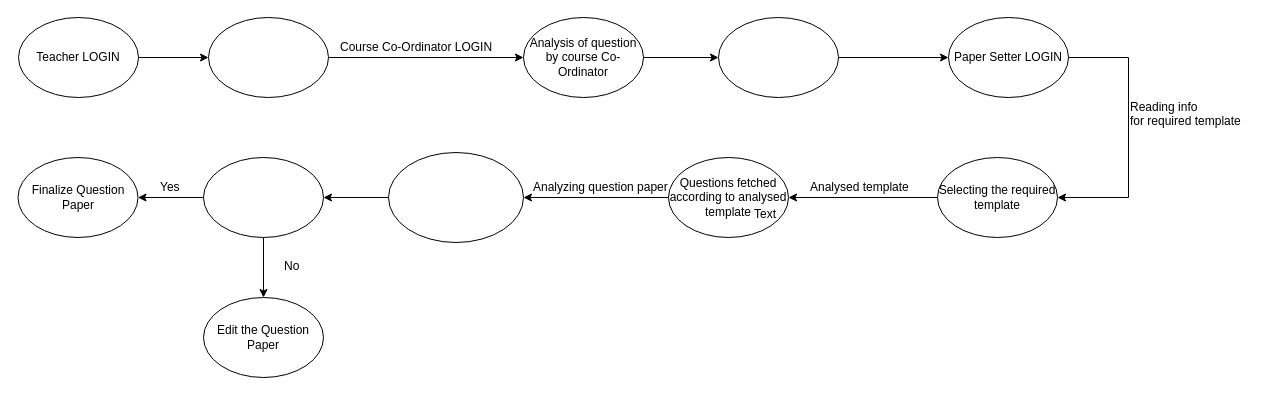
Image size: 1275x395. Some labels were removed from this diagram. Here are the shapes that lost their labels. From the top down, the centre of each, then its label:
(268,57): Creation of question in standard LaTeX format
(778,57): Analysed Question is added to database
(263,197): Printed analysed Question paper
(456,197): Mapping of Bloom's Level to the questions in the template
